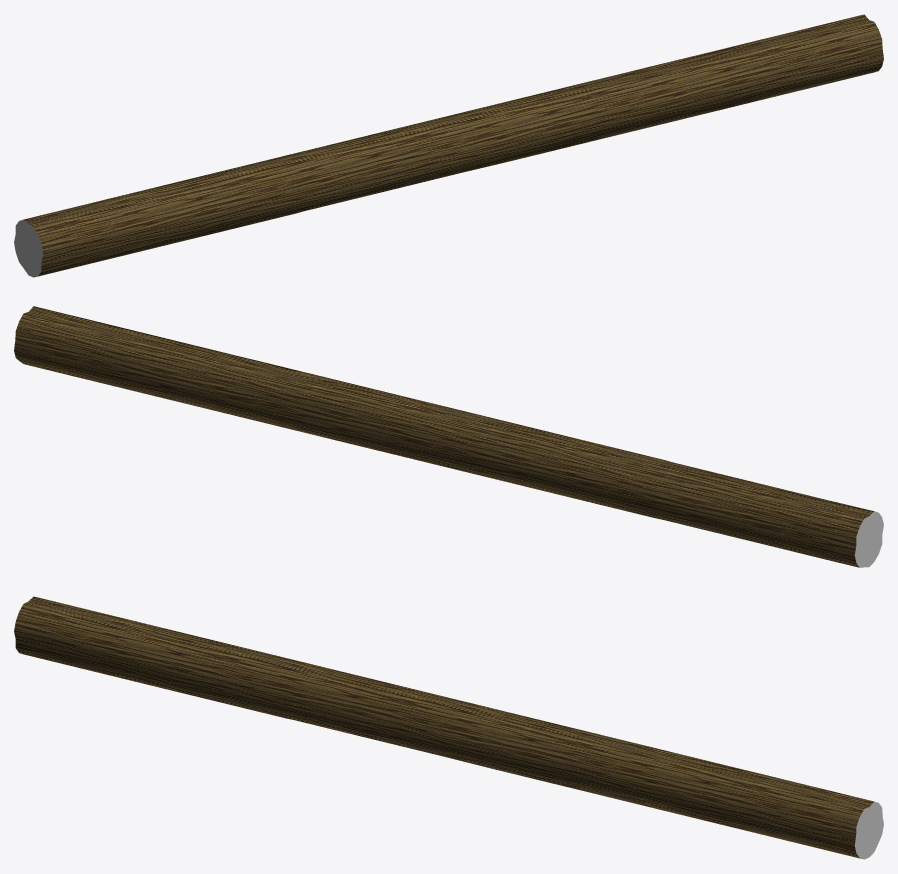
File: maruta.fbx
3 renders of one model, top to bottom at view 1: azimuth 30°, elevation 25°; view 2: azimuth 150°, elevation 25°; view 3: azimuth 330°, elevation 25°, orthographic.
Visible parts, largest first — view 1: Cylinder001, オブジェクト001; view 2: Cylinder001, オブジェクト001; view 3: Cylinder001, オブジェクト.
Boxes of the visible parts, x1,y1,x2,y2 form: Cylinder001: [24, 14, 883, 276]; オブジェクト001: [14, 219, 43, 277]; Cylinder001: [14, 306, 873, 567]; オブジェクト001: [854, 511, 883, 567]; Cylinder001: [14, 596, 874, 858]; オブジェクト: [854, 801, 883, 859].
Bounding box in the file's own units: 153 × 9.33 × 9.19.
